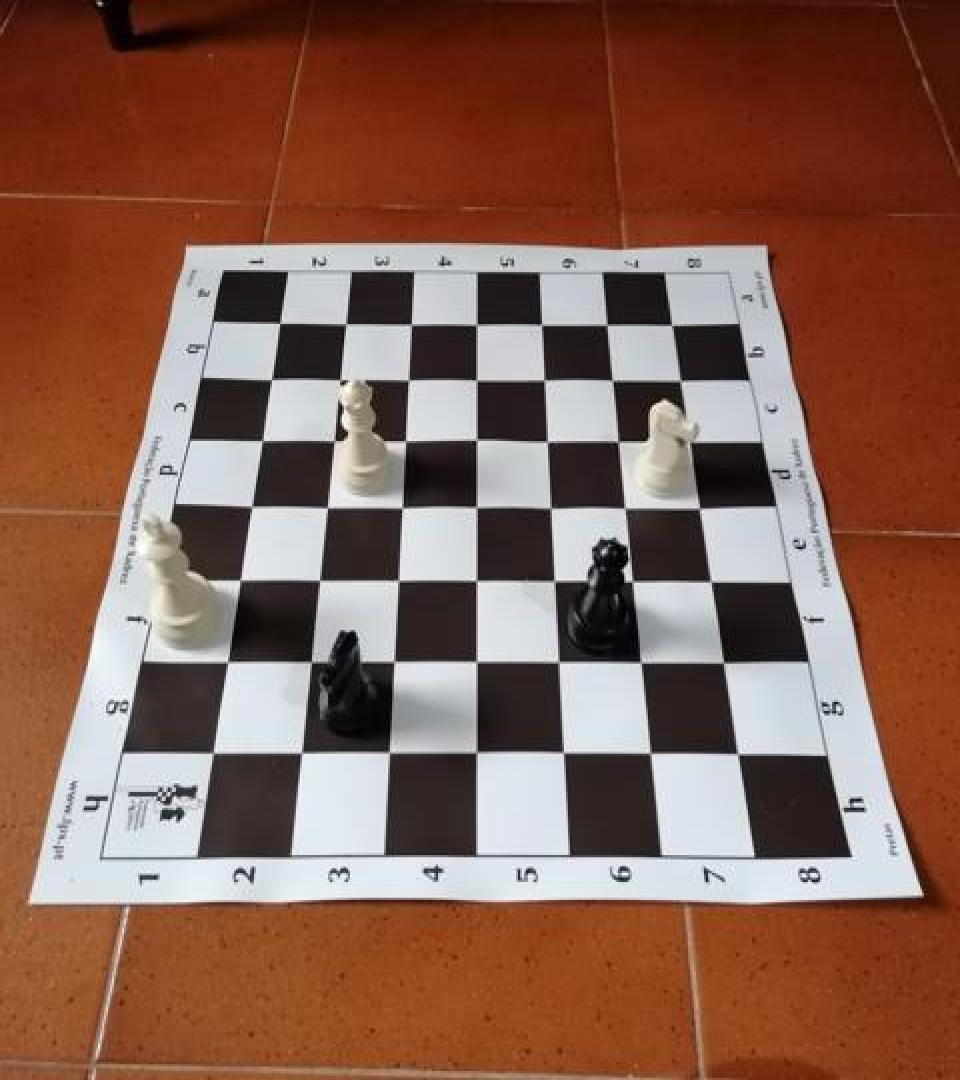xcorner: (542, 644, 574, 681), (458, 644, 490, 681), (374, 644, 406, 681), (291, 644, 323, 681), (724, 734, 756, 771), (636, 734, 668, 771), (547, 734, 579, 771), (458, 734, 490, 771), (657, 307, 689, 343), (591, 307, 623, 343), (525, 307, 557, 343), (459, 307, 491, 343), (393, 308, 425, 344), (327, 308, 359, 344), (261, 308, 293, 344), (666, 362, 698, 398), (597, 362, 629, 398), (528, 362, 560, 398), (459, 364, 491, 400), (390, 364, 422, 400), (321, 364, 353, 400), (252, 364, 284, 400), (675, 423, 707, 459), (603, 423, 635, 459), (531, 423, 563, 459), (459, 423, 491, 459), (387, 424, 419, 460), (315, 424, 347, 460), (243, 424, 275, 460), (686, 490, 718, 526), (610, 490, 642, 526), (534, 490, 566, 526), (459, 490, 491, 526), (383, 490, 415, 526), (307, 490, 339, 526), (232, 490, 264, 526), (697, 562, 729, 598), (618, 562, 650, 598), (538, 562, 570, 598), (458, 564, 490, 600), (379, 564, 411, 600), (299, 564, 331, 600), (220, 564, 252, 600), (710, 644, 742, 680), (626, 644, 658, 680), (207, 646, 239, 682), (369, 736, 401, 772), (281, 736, 313, 772), (192, 736, 224, 772)
